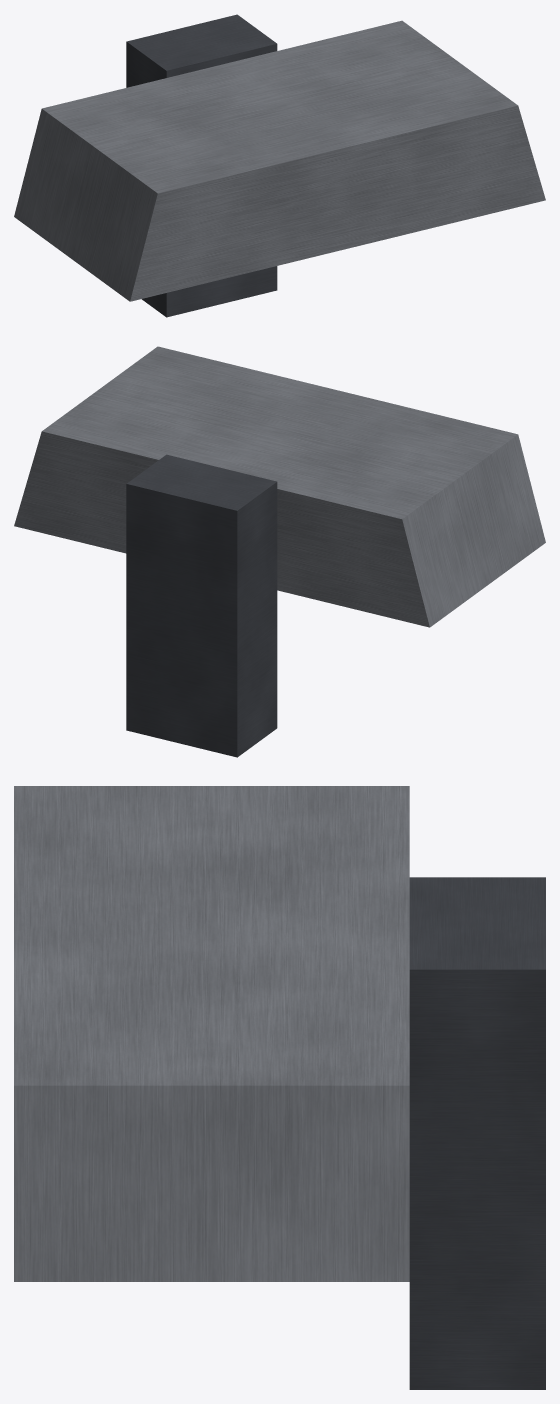
File: wall_lamp.obj
The picture shows the model from 3 angles, top to bottom: view 1: azimuth 30°, elevation 25°; view 2: azimuth 150°, elevation 25°; view 3: azimuth 270°, elevation 25°; orthographic projection. The views are drawn at different scales.
Visible parts, largest first — view 1: wall_lamp; view 2: wall_lamp; view 3: wall_lamp.
Part boxes in pixels (x1=…): wall_lamp: x1=14, y1=14, x2=545, y2=317; wall_lamp: x1=14, y1=346, x2=545, y2=757; wall_lamp: x1=14, y1=786, x2=545, y2=1389.
Bounding box in the file's own units: 0.6 × 0.34 × 0.39.
